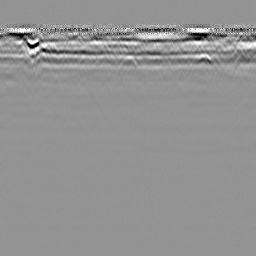cavity: (118, 54, 139, 72)
